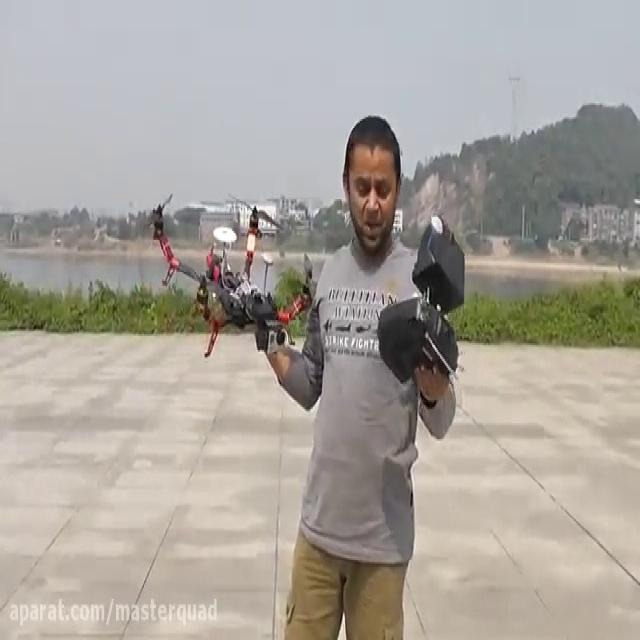drone: (138, 190, 317, 359)
